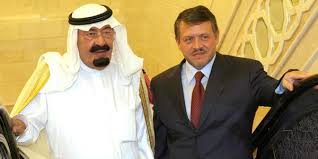middle_eastern_male: (172, 5, 225, 66), (76, 23, 124, 70)
